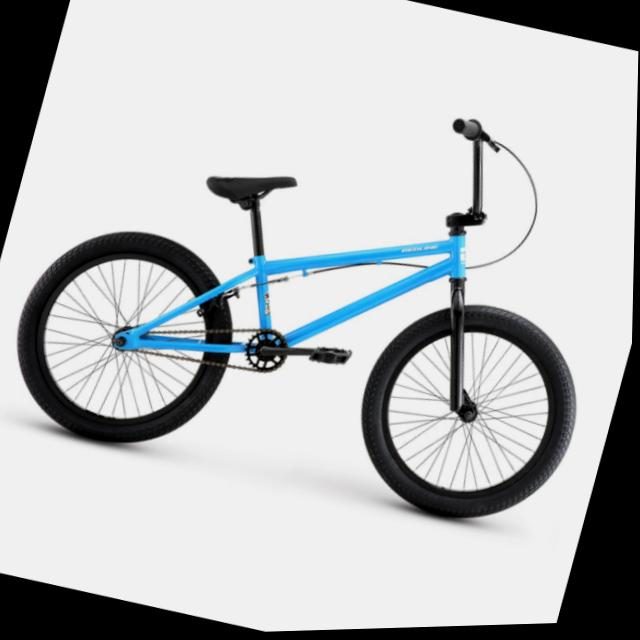bmx-bike: (0, 19, 639, 563)
